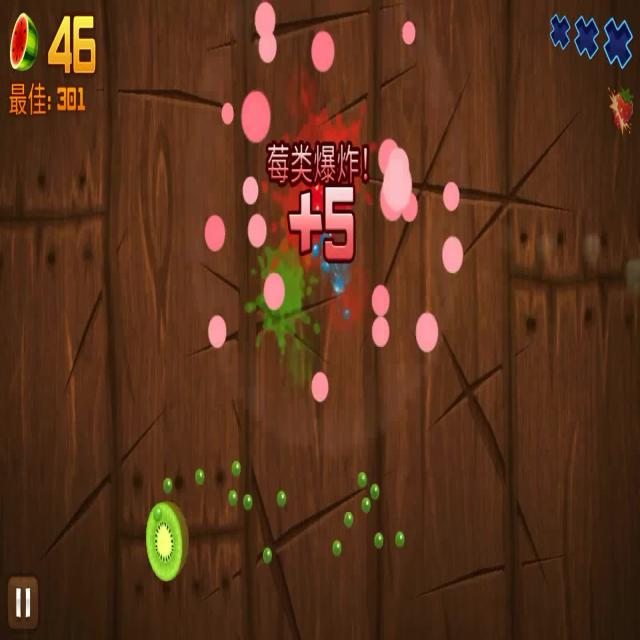fruit: (142, 504, 190, 584)
